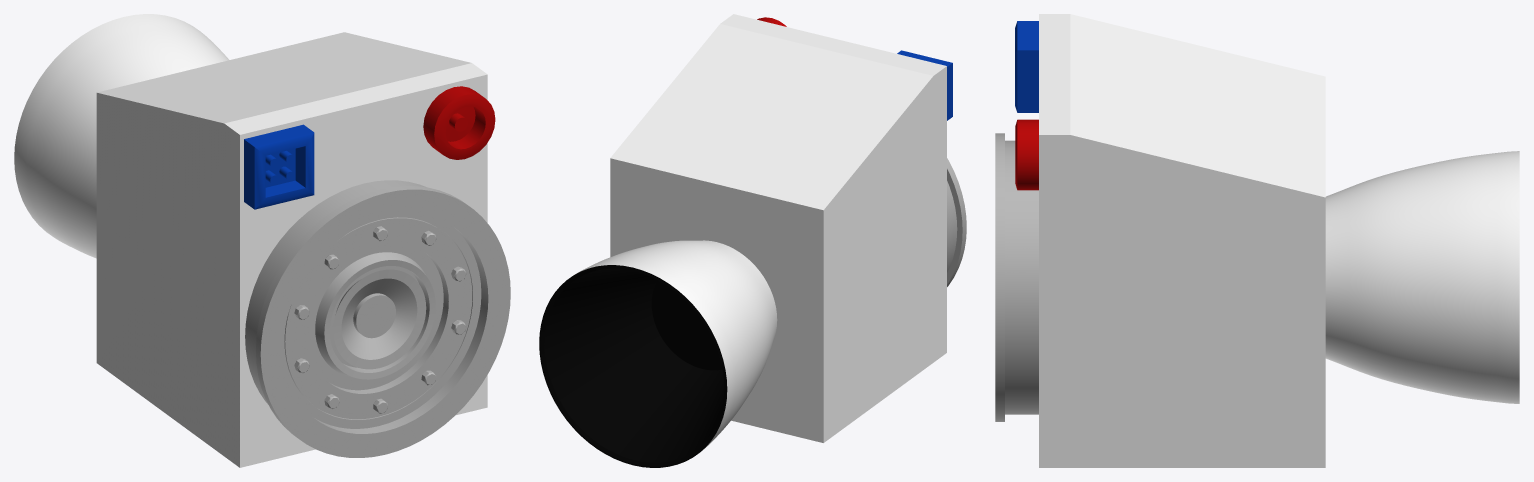
File: MiniThruster.gltf
3 views of the same model, side by side, from view 1: azimuth 30°, elevation 25°; view 2: azimuth 150°, elevation 25°; view 3: azimuth 270°, elevation 25° (orthographic). The views are drawn at different scales.
Visible parts, largest first — view 1: base; view 2: base; view 3: base.
Boxes of the visible parts, left/top/right/bottom form: base: left=14, top=14, right=510, bottom=467; base: left=539, top=14, right=966, bottom=467; base: left=995, top=14, right=1519, bottom=467.
Size of the model in its own units: 0.2498 by 0.3187 by 0.4538.
